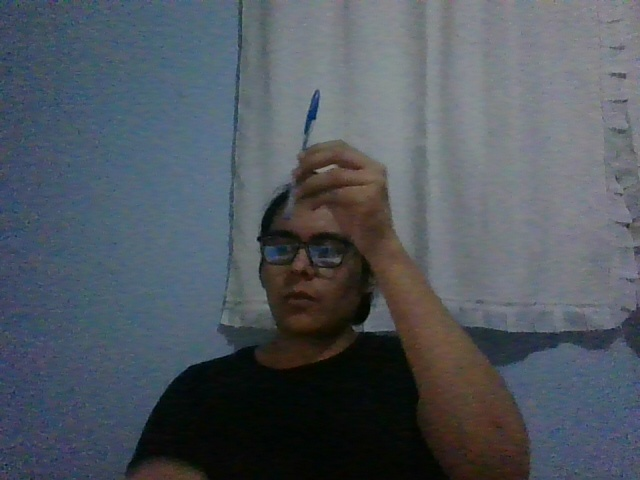pluma: (282, 88, 321, 221)
